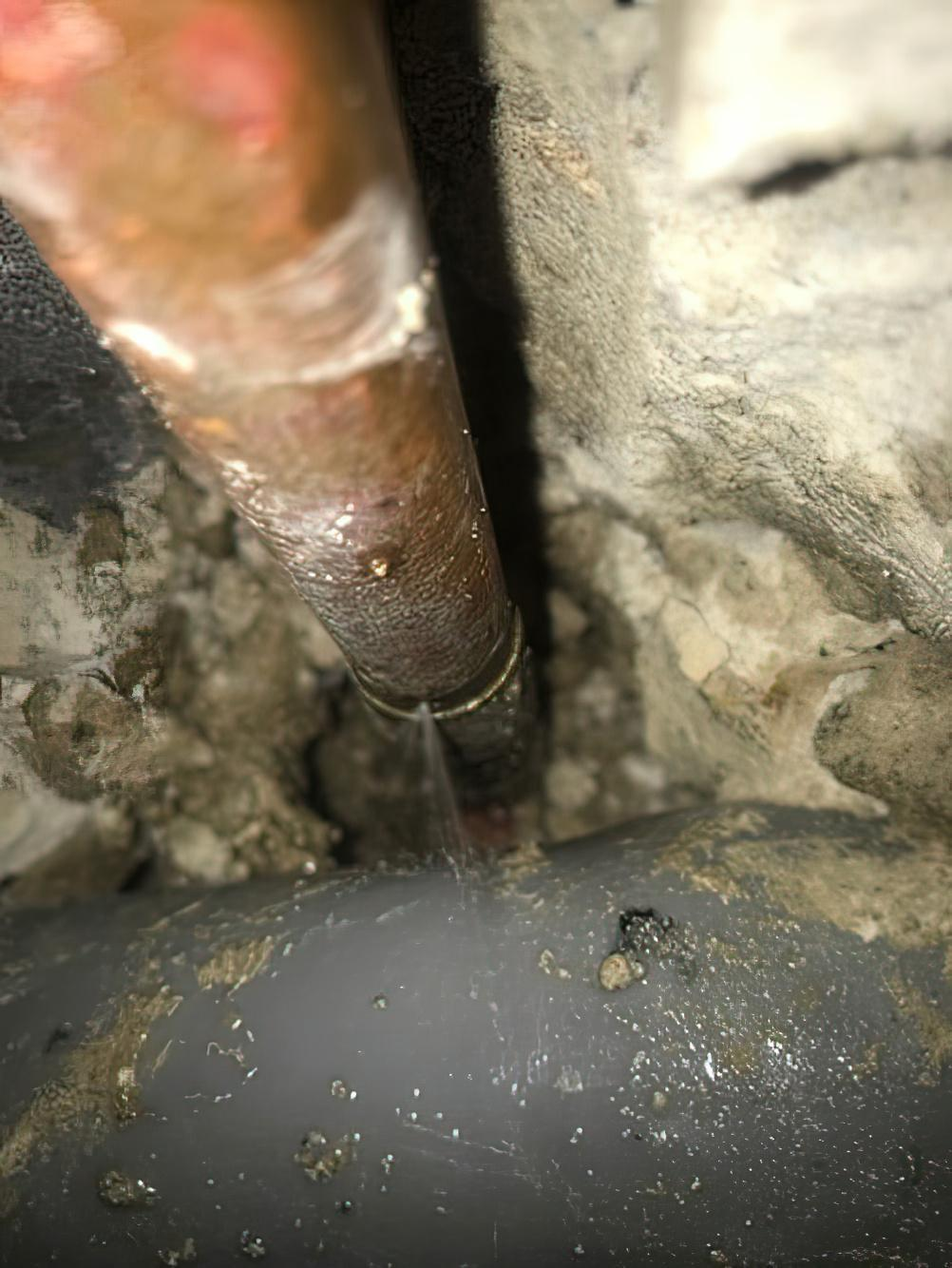pipe burst: (392, 701, 466, 857)
